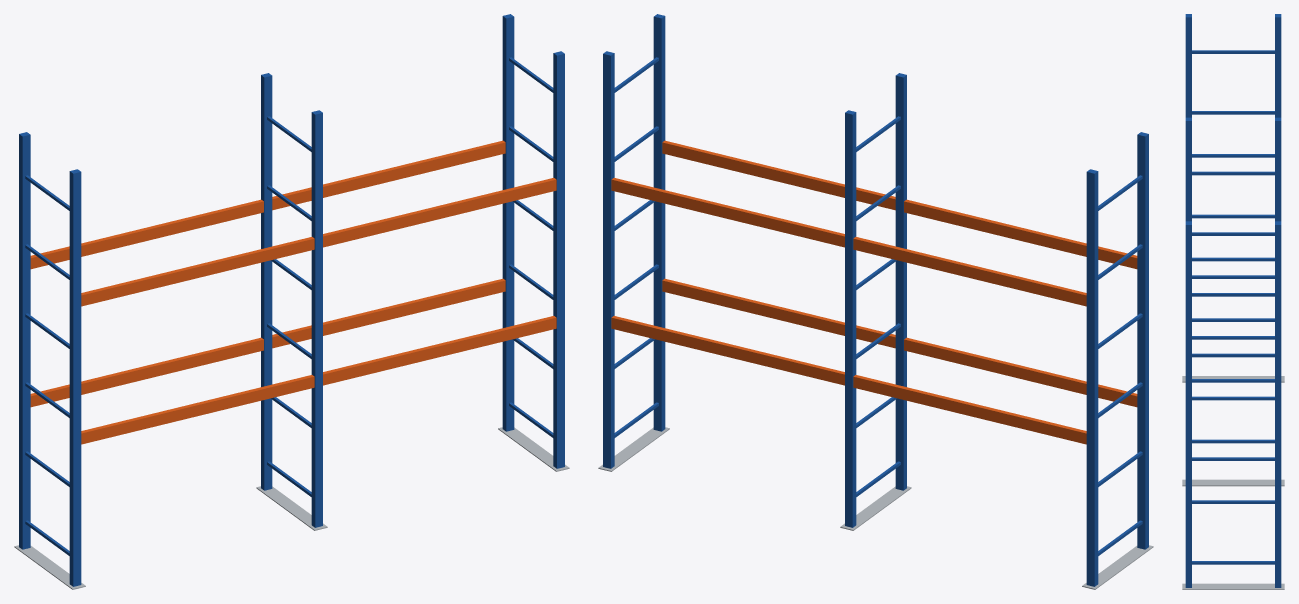
The model's file is rack.glb.
3 views of the same model, side by side, from view 1: azimuth 30°, elevation 25°; view 2: azimuth 150°, elevation 25°; view 3: azimuth 270°, elevation 25° (orthographic). The views are drawn at different scales.
Visible parts, largest first — view 1: Part_Bastidor_1, Part_Bastidor_3, Part_Bastidor_2, Part_Larguero_M2_N3_F, Part_Larguero_M1_N3_F, Part_Larguero_M1_N2_F, Part_Larguero_M2_N2_F, Part_Larguero_M2_N2_T, Part_Larguero_M2_N3_T, Part_Larguero_M1_N2_T, Part_Larguero_M1_N3_T; view 2: Part_Bastidor_1, Part_Bastidor_3, Part_Bastidor_2, Part_Larguero_M2_N3_T, Part_Larguero_M1_N3_T, Part_Larguero_M1_N2_T, Part_Larguero_M2_N2_T, Part_Larguero_M2_N2_F, Part_Larguero_M2_N3_F, Part_Larguero_M1_N2_F, Part_Larguero_M1_N3_F; view 3: Part_Bastidor_3, Part_Bastidor_2, Part_Bastidor_1.
Boxes of the visible parts, left/top/right/bottom form: Part_Bastidor_1: left=14, top=132, right=85, bottom=589; Part_Bastidor_3: left=498, top=14, right=569, bottom=471; Part_Bastidor_2: left=256, top=73, right=327, bottom=530; Part_Larguero_M2_N3_F: left=323, top=178, right=556, bottom=247; Part_Larguero_M1_N3_F: left=81, top=237, right=314, bottom=306; Part_Larguero_M1_N2_F: left=81, top=375, right=314, bottom=444; Part_Larguero_M2_N2_F: left=323, top=316, right=556, bottom=385; Part_Larguero_M2_N2_T: left=272, top=278, right=505, bottom=348; Part_Larguero_M2_N3_T: left=272, top=140, right=505, bottom=210; Part_Larguero_M1_N2_T: left=30, top=337, right=263, bottom=407; Part_Larguero_M1_N3_T: left=30, top=199, right=263, bottom=269; Part_Bastidor_1: left=1082, top=132, right=1153, bottom=589; Part_Bastidor_3: left=598, top=14, right=669, bottom=471; Part_Bastidor_2: left=840, top=73, right=911, bottom=530; Part_Larguero_M2_N3_T: left=611, top=178, right=844, bottom=247; Part_Larguero_M1_N3_T: left=853, top=237, right=1086, bottom=306; Part_Larguero_M1_N2_T: left=853, top=375, right=1086, bottom=444; Part_Larguero_M2_N2_T: left=611, top=316, right=844, bottom=385; Part_Larguero_M2_N2_F: left=662, top=278, right=895, bottom=348; Part_Larguero_M2_N3_F: left=662, top=140, right=895, bottom=210; Part_Larguero_M1_N2_F: left=904, top=337, right=1137, bottom=407; Part_Larguero_M1_N3_F: left=904, top=199, right=1137, bottom=269; Part_Bastidor_3: left=1182, top=221, right=1284, bottom=589; Part_Bastidor_2: left=1182, top=117, right=1284, bottom=486; Part_Bastidor_1: left=1182, top=14, right=1284, bottom=382.
Bounding box in the file's own units: 5.65 × 4.5 × 1.15.
